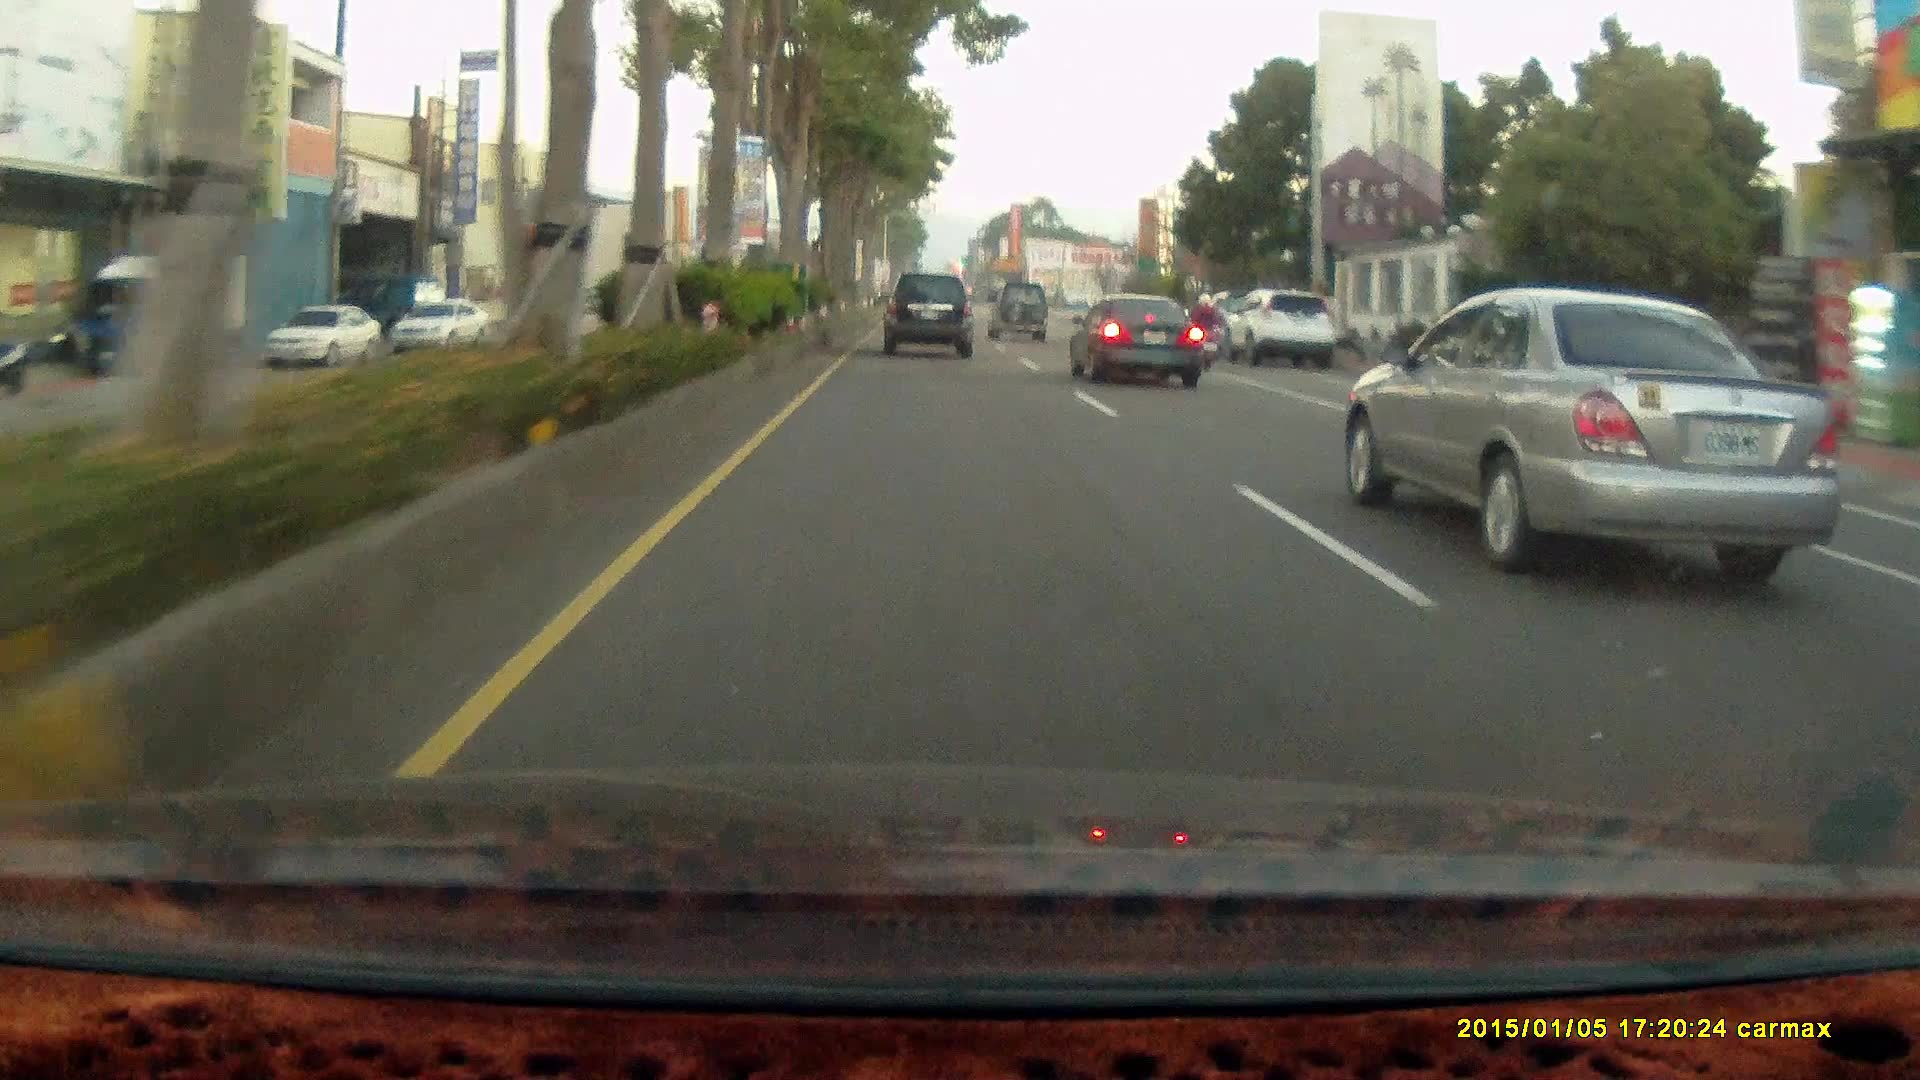rider: (1183, 291, 1221, 369)
vehicle: (1339, 286, 1842, 593), (63, 249, 255, 378), (66, 252, 258, 379), (1069, 291, 1211, 394), (1065, 292, 1204, 387), (1219, 290, 1337, 370), (880, 273, 976, 365), (1234, 291, 1339, 372), (880, 270, 972, 357), (265, 303, 381, 368), (267, 309, 383, 370), (387, 299, 491, 356), (987, 283, 1052, 346), (987, 282, 1050, 342)
